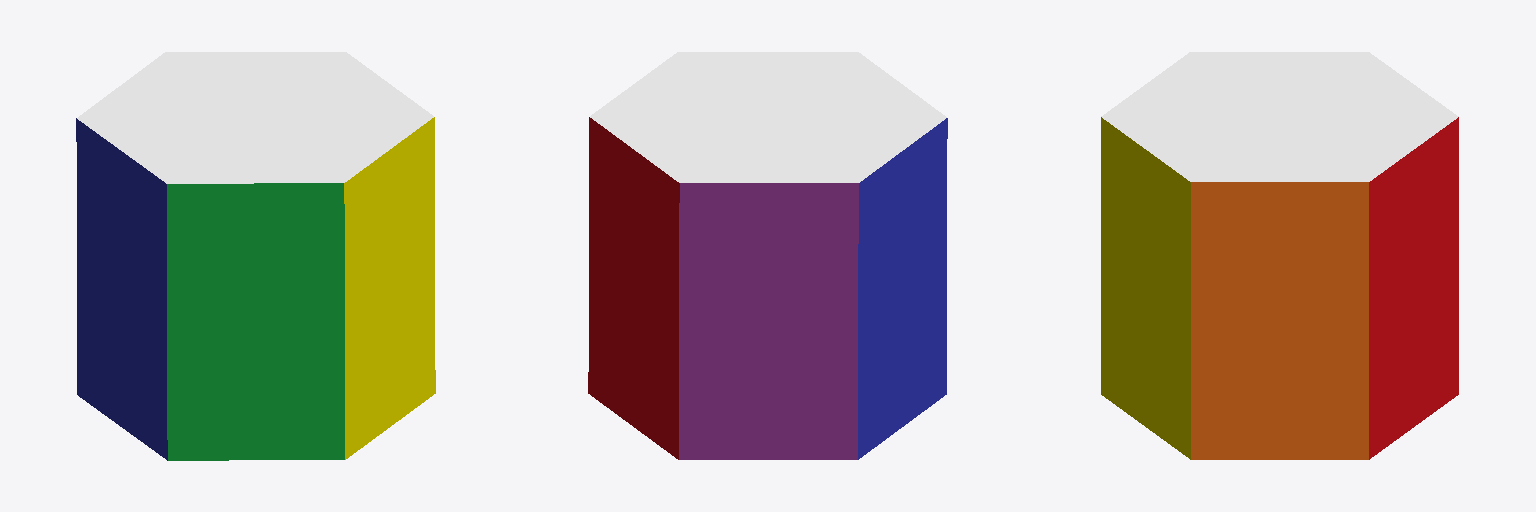
File: whitebox.obj
3 views of the same model, side by side, from view 1: azimuth 30°, elevation 25°; view 2: azimuth 150°, elevation 25°; view 3: azimuth 270°, elevation 25° (orthographic).
Parts seen in each view (by area): view 1: Object.1; view 2: Object.1; view 3: Object.1.
Boxes of the visible parts, <box> form: Object.1: <box>76,52,435,460</box>; Object.1: <box>588,52,947,459</box>; Object.1: <box>1101,52,1458,459</box>.
Size of the model in its own units: 101 by 99.31 by 116.